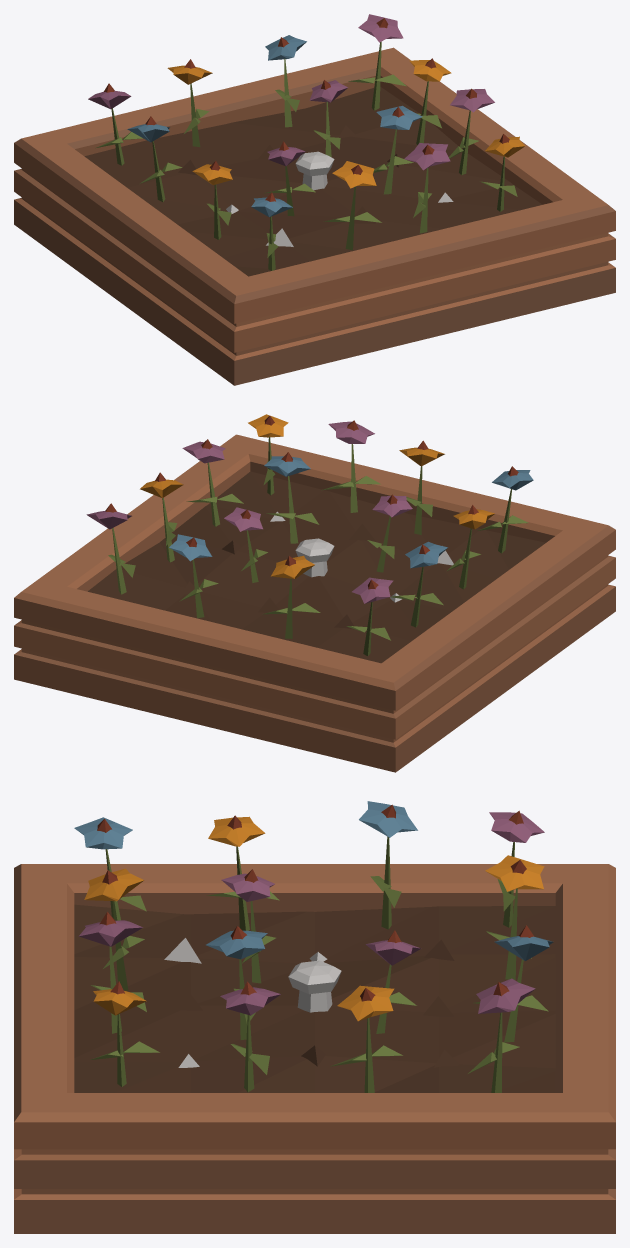
Rendered from flower-bed-708e73.glb.
The picture shows the model from 3 angles, top to bottom: view 1: azimuth 30°, elevation 25°; view 2: azimuth 150°, elevation 25°; view 3: azimuth 270°, elevation 25°; orthographic projection. The views are drawn at different scales.
Visible parts, largest first — view 1: flower-bed-mesh, marker-mesh, yield-4-mesh, yield-0-mesh, yield-11-mesh, yield-8-mesh, yield-14-mesh, yield-10-mesh, yield-5-mesh, yield-9-mesh, yield-13-mesh, yield-1-mesh (+5 smaller); view 2: flower-bed-mesh, marker-mesh, yield-10-mesh, yield-2-mesh, yield-12-mesh, yield-4-mesh, yield-6-mesh, yield-8-mesh, yield-3-mesh, yield-14-mesh, yield-13-mesh, yield-7-mesh (+5 smaller); view 3: flower-bed-mesh, marker-mesh, yield-6-mesh, yield-0-mesh, yield-5-mesh, yield-2-mesh, yield-11-mesh, yield-1-mesh, yield-8-mesh, yield-9-mesh, yield-12-mesh, yield-4-mesh (+5 smaller).
Part boxes in pixels (x1,y1,x2,y2): flower-bed-mesh: [14, 41, 615, 385]; marker-mesh: [295, 151, 334, 190]; yield-4-mesh: [404, 143, 450, 170]; yield-0-mesh: [358, 14, 403, 42]; yield-11-mesh: [332, 161, 376, 188]; yield-8-mesh: [376, 105, 422, 129]; yield-14-mesh: [450, 88, 494, 112]; yield-10-mesh: [265, 35, 306, 60]; yield-5-mesh: [409, 58, 451, 81]; yield-9-mesh: [192, 161, 232, 184]; yield-13-mesh: [309, 80, 347, 102]; yield-1-mesh: [251, 192, 292, 217]; flower-bed-mesh: [14, 434, 615, 772]; marker-mesh: [295, 538, 334, 577]; yield-10-mesh: [169, 534, 212, 561]; yield-2-mesh: [405, 541, 447, 568]; yield-12-mesh: [352, 577, 393, 603]; yield-4-mesh: [328, 420, 374, 443]; yield-6-mesh: [270, 555, 314, 578]; yield-8-mesh: [264, 452, 310, 476]; yield-3-mesh: [248, 414, 288, 437]; yield-14-mesh: [182, 439, 225, 463]; yield-13-mesh: [224, 507, 262, 531]; yield-7-mesh: [372, 494, 412, 517]; flower-bed-mesh: [14, 836, 615, 1233]; marker-mesh: [288, 960, 341, 1012]; yield-6-mesh: [485, 855, 544, 891]; yield-0-mesh: [476, 978, 535, 1013]; yield-5-mesh: [337, 985, 394, 1021]; yield-2-mesh: [359, 801, 417, 837]; yield-11-mesh: [84, 868, 144, 901]; yield-1-mesh: [74, 817, 132, 849]; yield-8-mesh: [206, 926, 267, 959]; yield-9-mesh: [208, 815, 265, 846]; yield-12-mesh: [489, 810, 544, 842]; yield-4-mesh: [78, 912, 142, 946].
Bounding box in the file's own units: 1 × 0.4025 × 1.
